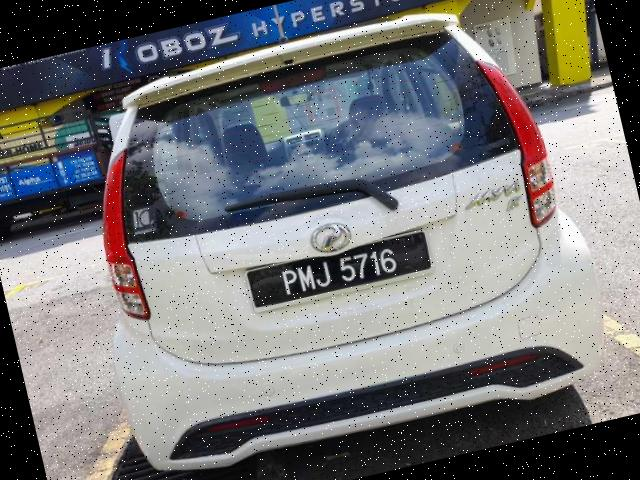License_Plate: (243, 227, 436, 314)
car: (50, 1, 620, 480)
